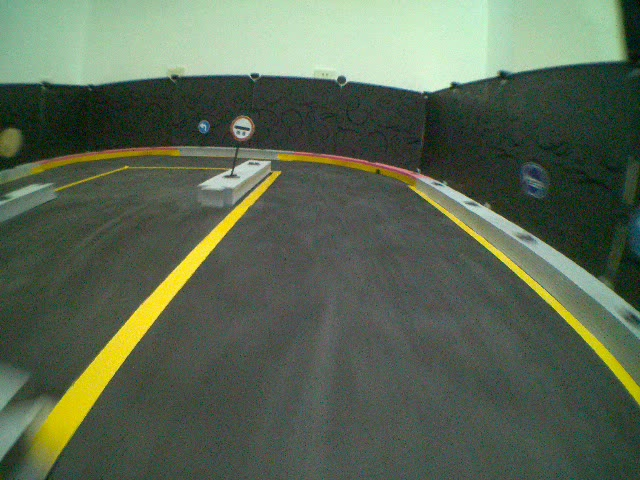Check: (230, 115, 255, 139)
horn: (518, 161, 548, 198)
turn: (197, 119, 209, 134)
